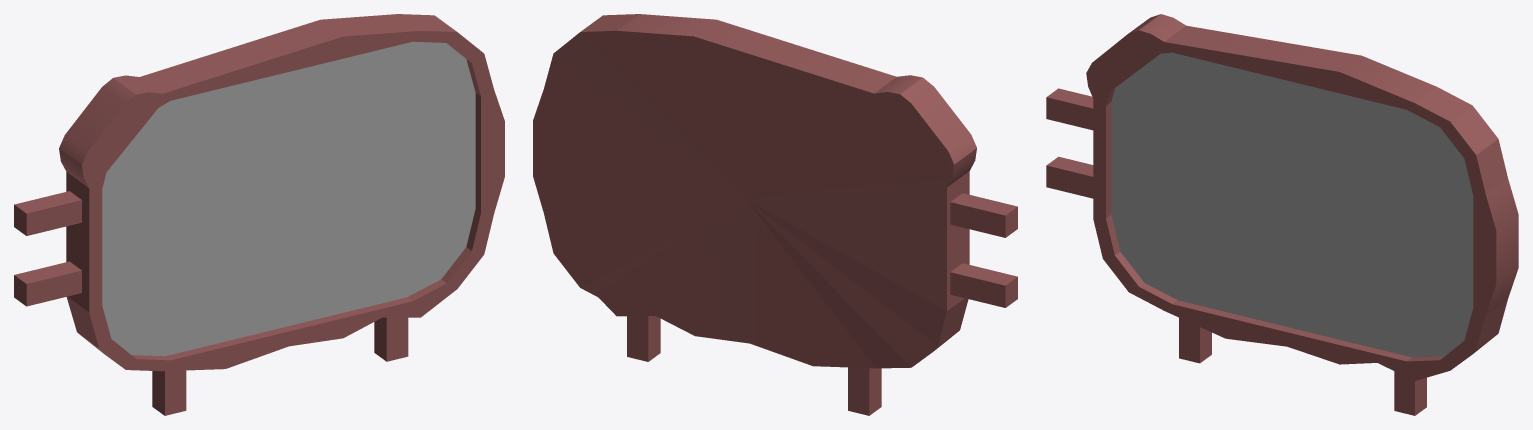
Rendered from SolarBoard.fbx.
3 views of the same model, side by side, from view 1: azimuth 30°, elevation 25°; view 2: azimuth 150°, elevation 25°; view 3: azimuth 330°, elevation 25° (orthographic). The views are drawn at different scales.
Parts seen in each view (by area): view 1: polySurface2, polySurface1, TopSupports, BottomSupports; view 2: polySurface1, TopSupports, BottomSupports; view 3: polySurface2, polySurface1, TopSupports, BottomSupports.
Boxes of the visible parts, bbox=[...] form: polySurface2: bbox=[102, 41, 475, 356]; polySurface1: bbox=[59, 14, 504, 371]; TopSupports: bbox=[14, 191, 81, 306]; BottomSupports: bbox=[152, 317, 408, 415]; polySurface1: bbox=[533, 14, 976, 368]; TopSupports: bbox=[950, 193, 1017, 307]; BottomSupports: bbox=[627, 316, 881, 415]; polySurface2: bbox=[1111, 52, 1473, 357]; polySurface1: bbox=[1086, 14, 1518, 380]; TopSupports: bbox=[1046, 88, 1093, 198]; BottomSupports: bbox=[1179, 317, 1426, 415].
Bounding box in the file's own units: 415 × 288 × 35.07.
